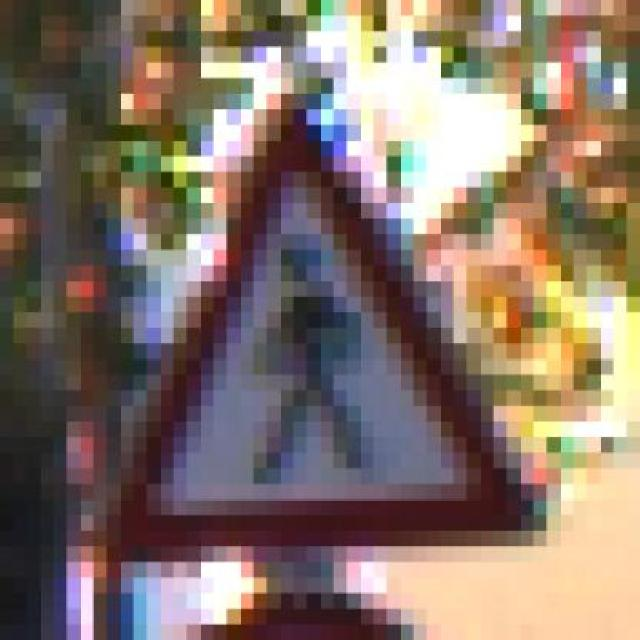Pedestrian Crossing: (66, 78, 560, 547)
